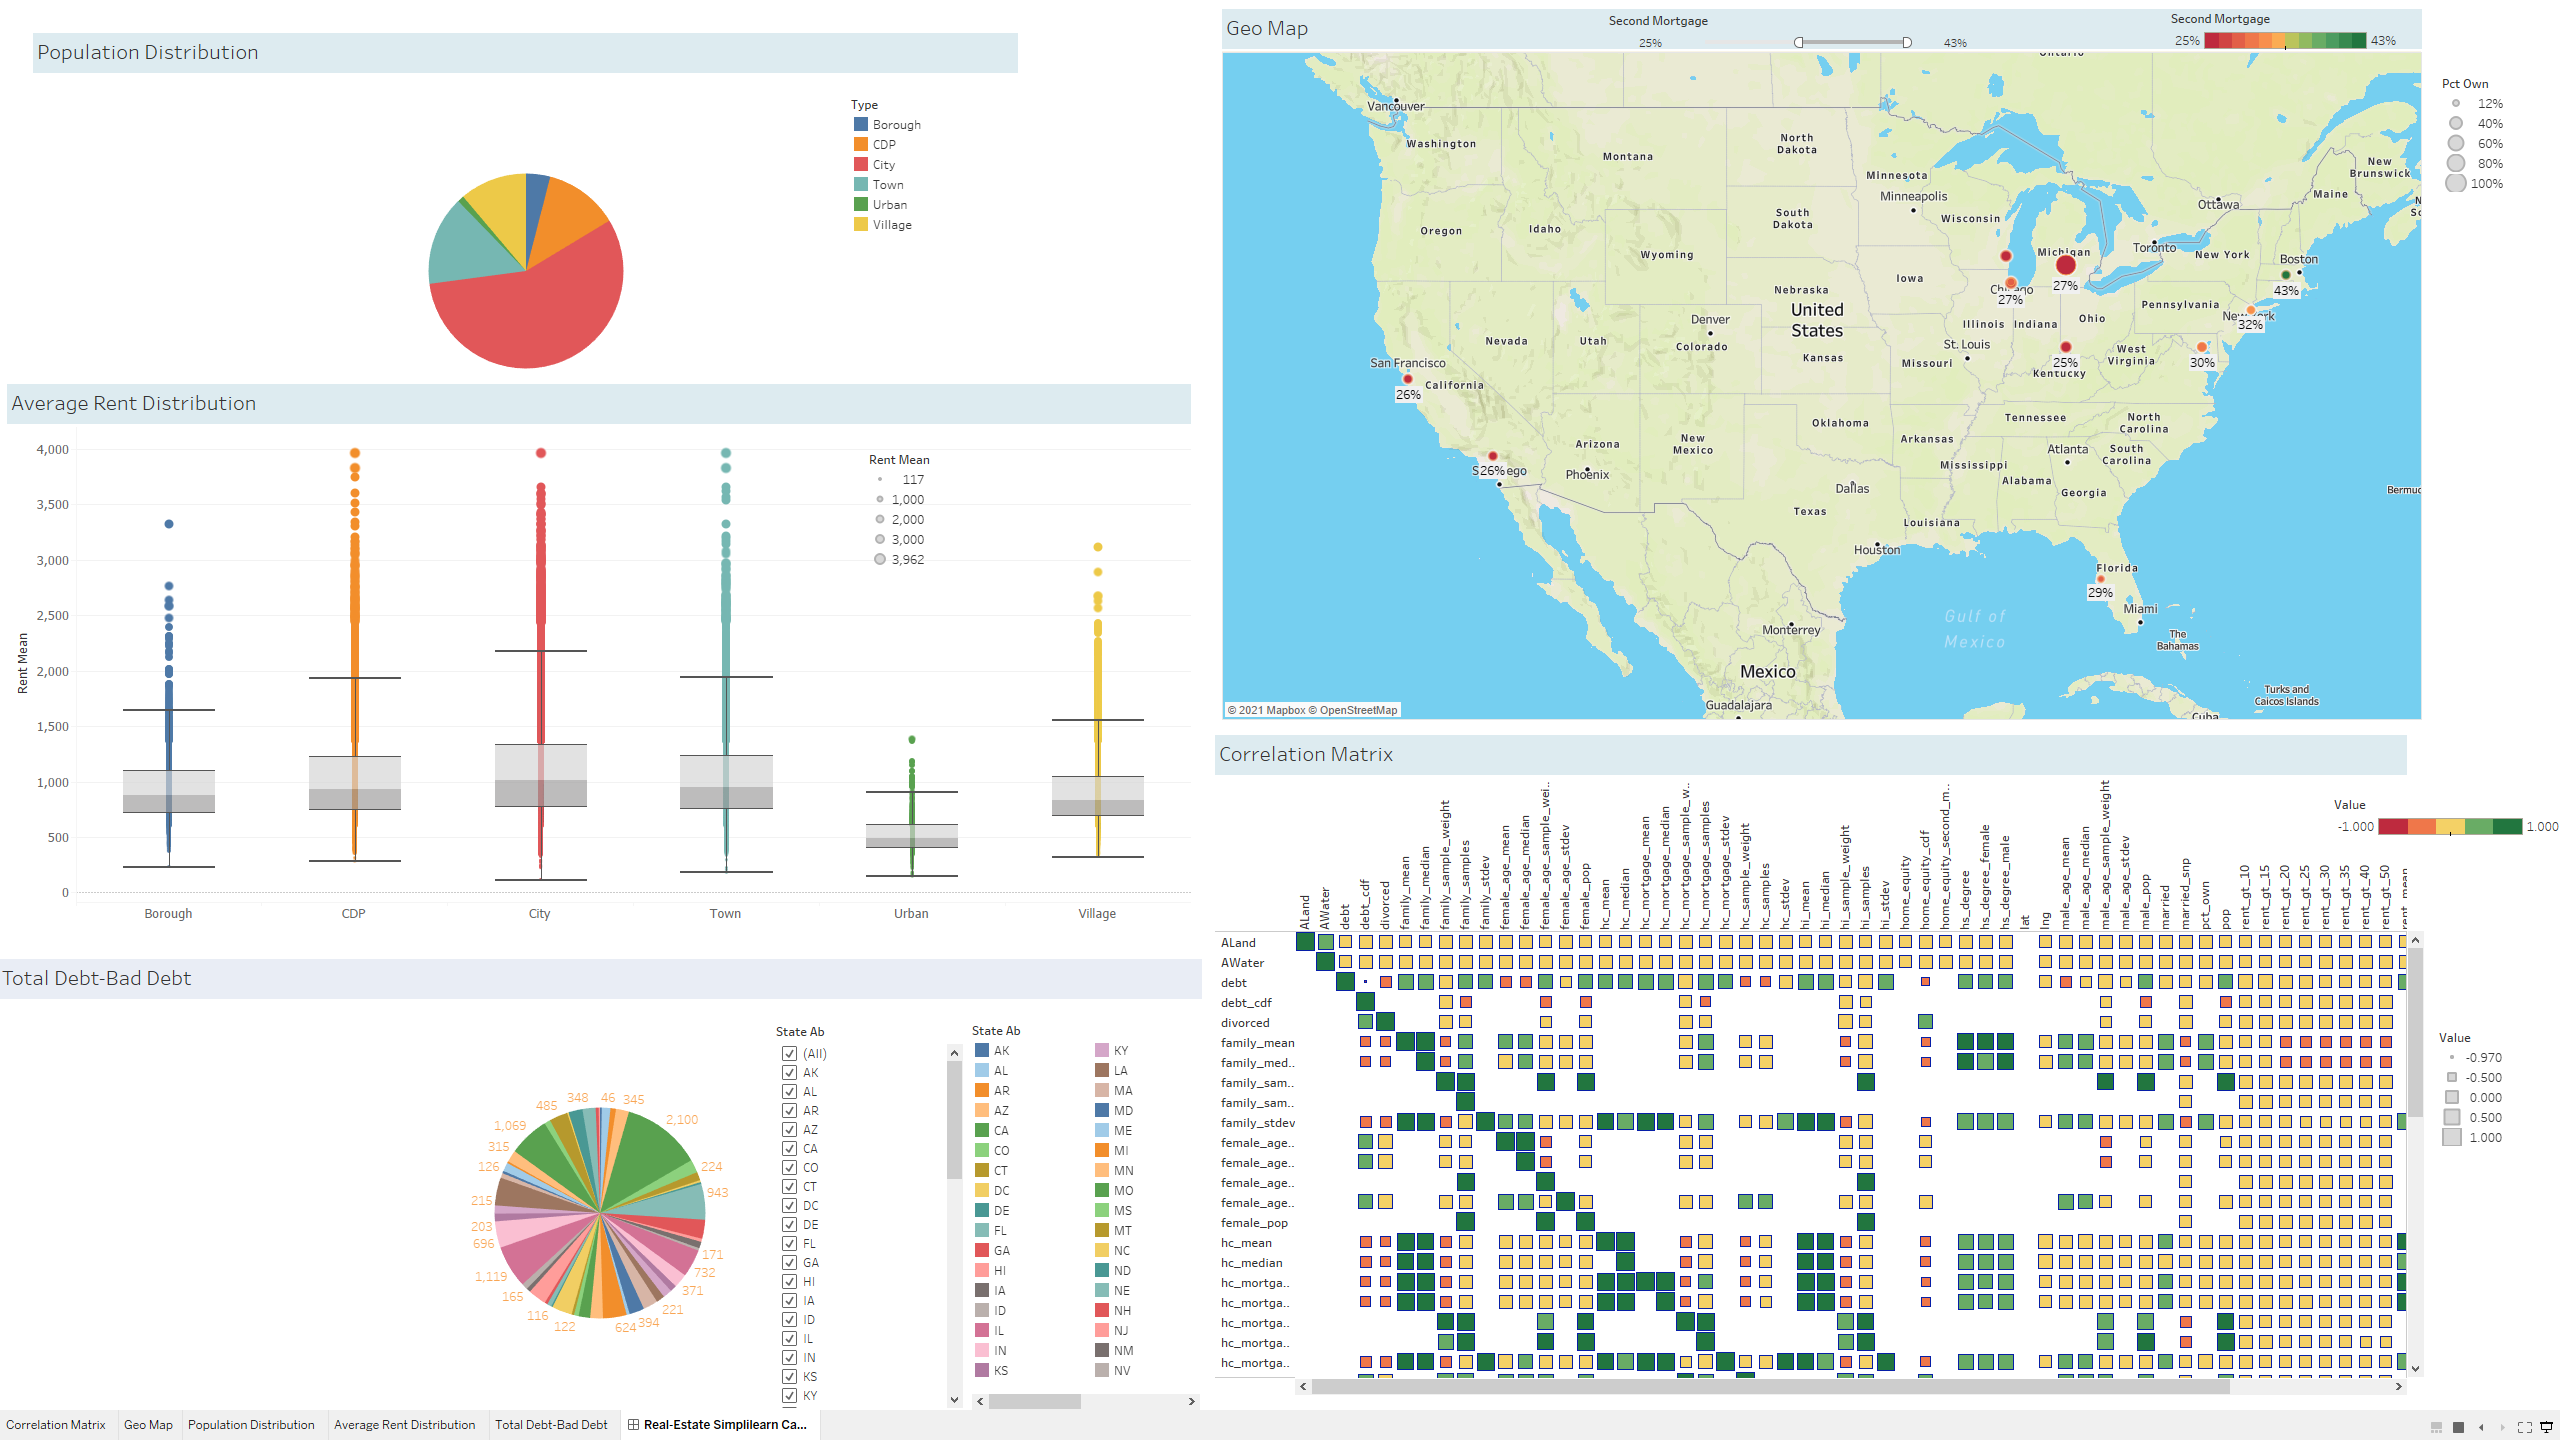

The dashboard page shown, as its layout file describes it:
{"tool":"tableau","page":{"name":"Real-Estate Simplilearn Capston-1","canvas":[1000,1000],"units":"permille","ordinal":0},"visuals":[{"type":"worksheet","title":"Geo Map","mark":"Automatic","rows":["lat"],"cols":["lng"],"box":[477.3,6.4,468.9,504.2]},{"type":"legend","title":"Geo Map","param":"[federated.1troydm0mnxd421bb68a71dh4cfa].[sum:second_mortgage:qk]","box":[848.2,7.4,89.7,60.4]},{"type":"filter","title":"Geo Map","param":"[federated.1troydm0mnxd421bb68a71dh4cfa].[none:second_mortgage:qk]","box":[628.4,8.5,152.5,55.1]},{"type":"blank","box":[8.1,17.3,983.7,965.4]},{"type":"worksheet","title":"Population Distribution","mark":"Pie","box":[12.8,23.3,385,311.4]},{"type":"legend","title":"Geo Map","param":"[federated.1troydm0mnxd421bb68a71dh4cfa].[none:pct_own:qk]","box":[953.9,53,45.5,146.2]},{"type":"legend","title":"Population Distribution","param":"[federated.0tqgioe1k6apit195vamm1t74hef].[none:type:nk]","box":[332.5,67.8,65.3,146.2]},{"type":"worksheet","title":"Average Rent Distribution","mark":"Circle","rows":["rent_mean"],"cols":["type"],"box":[2.6,272.2,462.5,381.4]},{"type":"legend","title":"Average Rent Distribution","param":"[federated.0tqgioe1k6apit195vamm1t74hef].[none:rent_mean:qk]","box":[339.5,319.9,50.6,125]},{"type":"worksheet","title":"Correlation Matrix","mark":"Automatic","rows":["Var1"],"cols":["Var2"],"box":[474.7,521.2,472.1,468.2]},{"type":"legend","title":"Correlation Matrix","param":"[federated.031swn91p7rsb51cocgq80m91og5].[sum:value:qk]","box":[911.6,564.6,89.7,80.5]},{"type":"legend","title":"Total Debt-Bad Debt","param":"[federated.1v83mdj0of3hpy1dacfvv0yqmykw].[none:state_ab:nk]","box":[379.9,724.6,89.7,275.4]},{"type":"filter","title":"Total Debt-Bad Debt","param":"[federated.1v83mdj0of3hpy1dacfvv0yqmykw].[none:state_ab:nk]","box":[303,725.6,73,273.3]},{"type":"legend","title":"Correlation Matrix","param":"[federated.031swn91p7rsb51cocgq80m91og5].[sum:value:qk]","box":[952.6,729.9,48.1,134.5]}]}

Visuals, with their boxes on the dashboard's canvas, which has no fixed pixel size, in thousandths of its width and height (x1, y1, x2, y2). These are canvas units, not pixel positions in the 2560x1440 screenshot, which may show the page scaled, cropped or inside an application window:
"Geo Map" worksheet: x1=477 y1=6 x2=946 y2=511
"Geo Map" legend: x1=848 y1=7 x2=938 y2=68
"Geo Map" filter: x1=628 y1=8 x2=781 y2=64
blank: x1=8 y1=17 x2=992 y2=983
"Population Distribution" worksheet (Pie marks): x1=13 y1=23 x2=398 y2=335
"Geo Map" legend: x1=954 y1=53 x2=999 y2=199
"Population Distribution" legend: x1=332 y1=68 x2=398 y2=214
"Average Rent Distribution" worksheet (Circle marks): x1=3 y1=272 x2=465 y2=654
"Average Rent Distribution" legend: x1=340 y1=320 x2=390 y2=445
"Correlation Matrix" worksheet: x1=475 y1=521 x2=947 y2=989
"Correlation Matrix" legend: x1=912 y1=565 x2=1001 y2=645
"Total Debt-Bad Debt" legend: x1=380 y1=725 x2=470 y2=1000
"Total Debt-Bad Debt" filter: x1=303 y1=726 x2=376 y2=999
"Correlation Matrix" legend: x1=953 y1=730 x2=1001 y2=864
